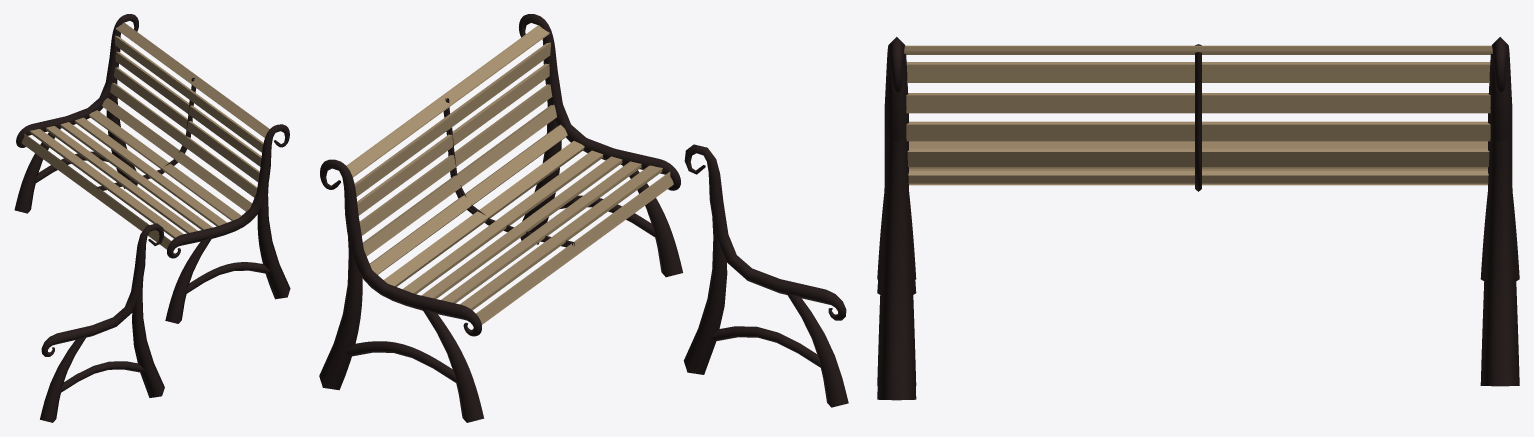
Rendered from bench.glb.
3 views of the same model, side by side, from view 1: azimuth 30°, elevation 25°; view 2: azimuth 150°, elevation 25°; view 3: azimuth 270°, elevation 25° (orthographic). The views are drawn at different scales.
Parts seen in each view (by area): view 1: parkBench.001, parkBench, BezierCurve.012, Cube.001, BezierCurve.010, BezierCurve.008, BezierCurve.007; view 2: parkBench.001, parkBench, BezierCurve.012, Cube.001, BezierCurve.010, BezierCurve.008, BezierCurve.007; view 3: parkBench.001, parkBench.
Part boxes in pixels (left/top/right/bottom): parkBench.001: left=16, top=16, right=290, bottom=323; parkBench: left=14, top=14, right=289, bottom=323; BezierCurve.012: left=41, top=223, right=164, bottom=356; Cube.001: left=30, top=129, right=182, bottom=238; BezierCurve.010: left=132, top=278, right=164, bottom=397; BezierCurve.008: left=40, top=335, right=86, bottom=422; BezierCurve.007: left=60, top=361, right=144, bottom=392; parkBench.001: left=319, top=14, right=680, bottom=422; parkBench: left=320, top=14, right=682, bottom=422; BezierCurve.012: left=684, top=144, right=846, bottom=320; Cube.001: left=461, top=165, right=662, bottom=310; BezierCurve.010: left=683, top=217, right=727, bottom=374; BezierCurve.008: left=787, top=292, right=848, bottom=407; BezierCurve.007: left=710, top=326, right=821, bottom=367; parkBench.001: left=877, top=37, right=1519, bottom=386; parkBench: left=877, top=37, right=1519, bottom=377.
Size of the model in its own units: 22.34 by 20.62 by 24.78.
